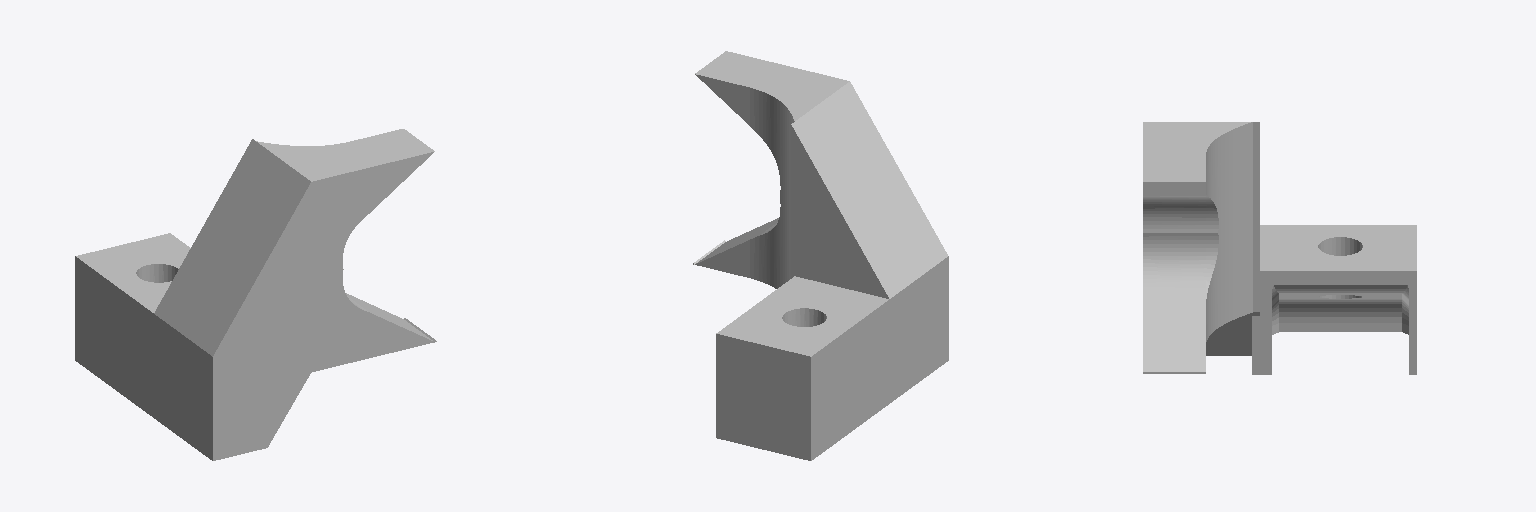
Rendered from Greifer_long_nose_new_links.obj.
3 renders of one model, left to right at view 1: azimuth 30°, elevation 25°; view 2: azimuth 150°, elevation 25°; view 3: azimuth 270°, elevation 25°, orthographic.
Visible parts, largest first — view 1: Körper2:1; view 2: Körper2:1; view 3: Körper2:1.
Boxes of the visible parts, <box> form: Körper2:1: <box>75,129,436,460</box>; Körper2:1: <box>693,51,948,460</box>; Körper2:1: <box>1143,122,1416,374</box>.
Size of the model in its own units: 0.0307 by 0.0335 by 0.0327.